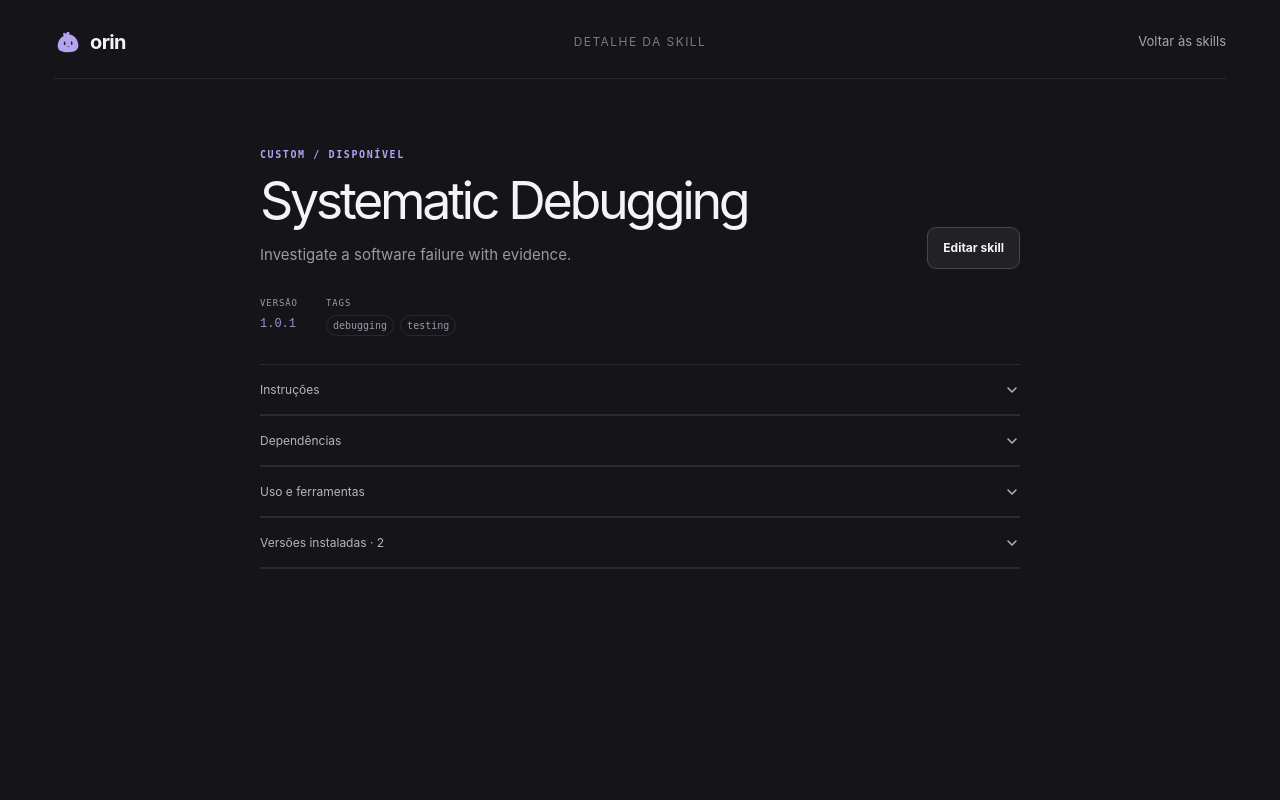
Test: SkillsPage › keeps instructions in a detail disclosure until the user requests them
Check: the heading "Systematic Debugging" is shown, box [260,169,747,232]
Check: the text "Workflow" is not shown
Click the button "Instruções": (290,389) [260,366,1020,414]
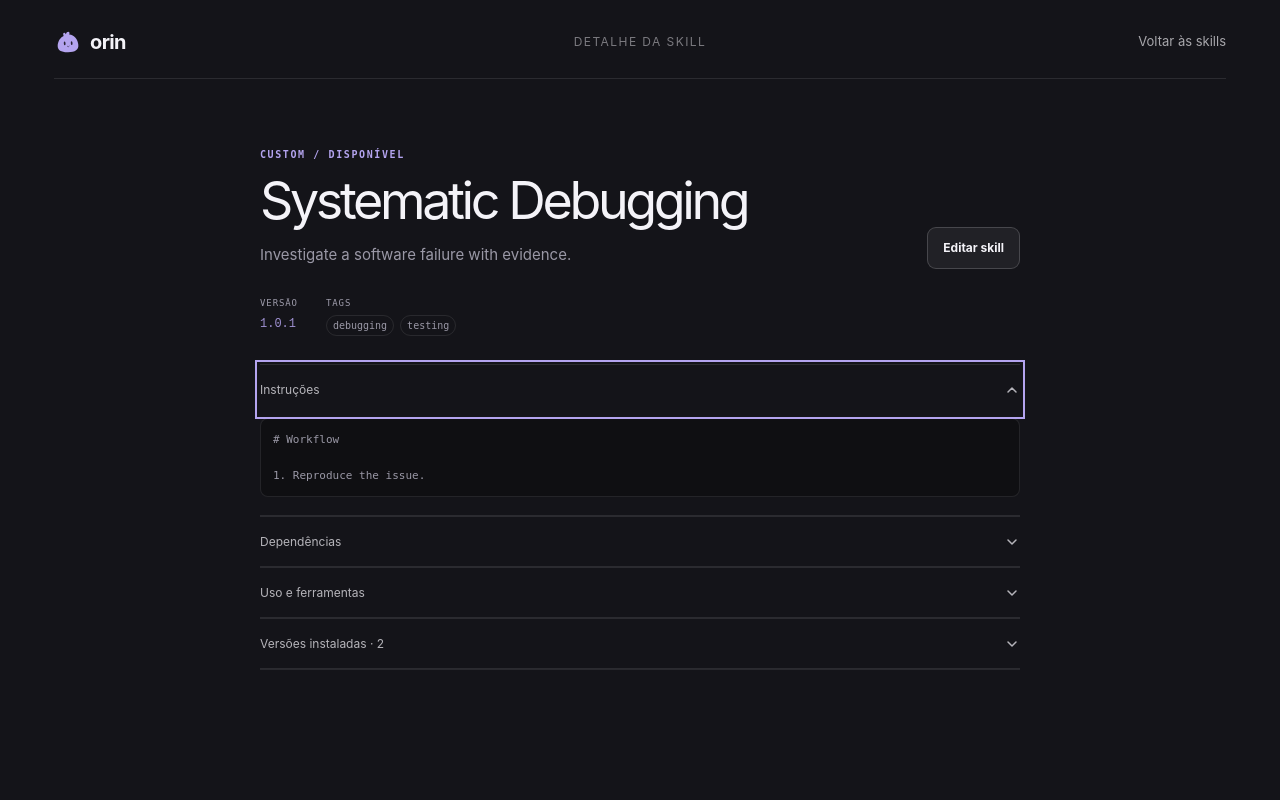
Check: the text "testing" is shown, box [400,316,456,336]
Check: the text "# Workflow 1. Reproduce the issue." is shown, box [260,418,1020,497]
